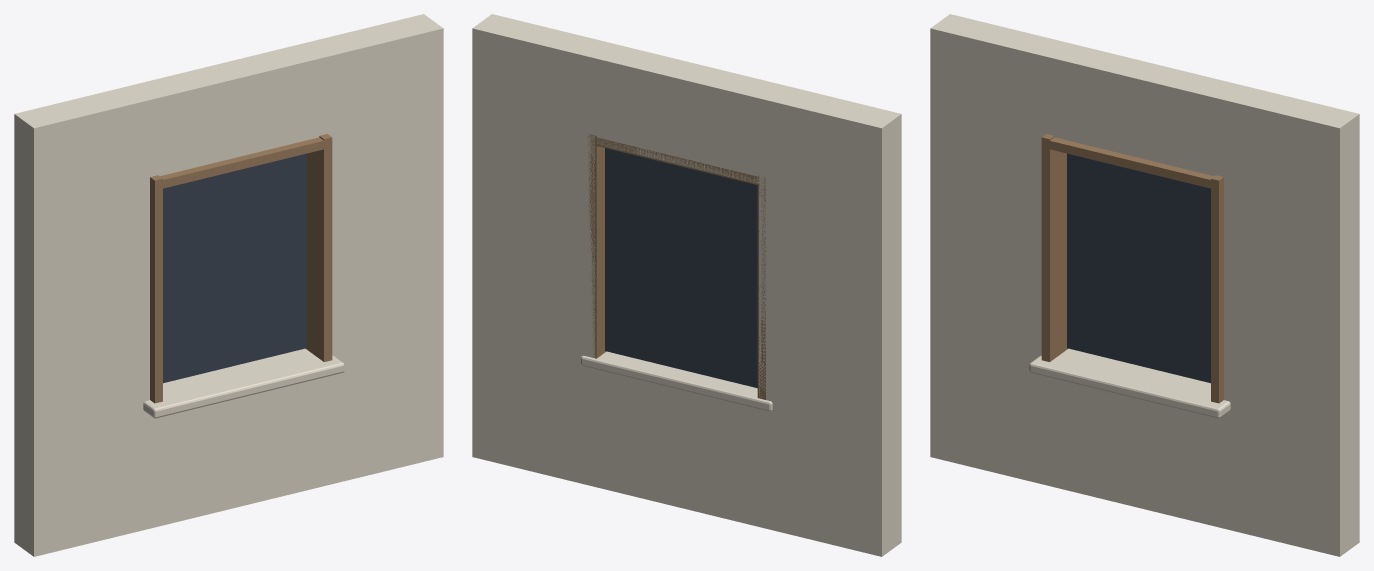
Rendered from kit_window.glb.
3 views of the same model, side by side, from view 1: azimuth 30°, elevation 25°; view 2: azimuth 150°, elevation 25°; view 3: azimuth 330°, elevation 25° (orthographic).
Visible parts, largest first — view 1: kit_window; view 2: kit_window; view 3: kit_window.
Boxes of the visible parts, x1,y1,x2,y2 form: kit_window: (14,14,443,556); kit_window: (472,14,901,556); kit_window: (930,14,1359,556).
Size of the model in its own units: 3 by 3 by 0.41.
